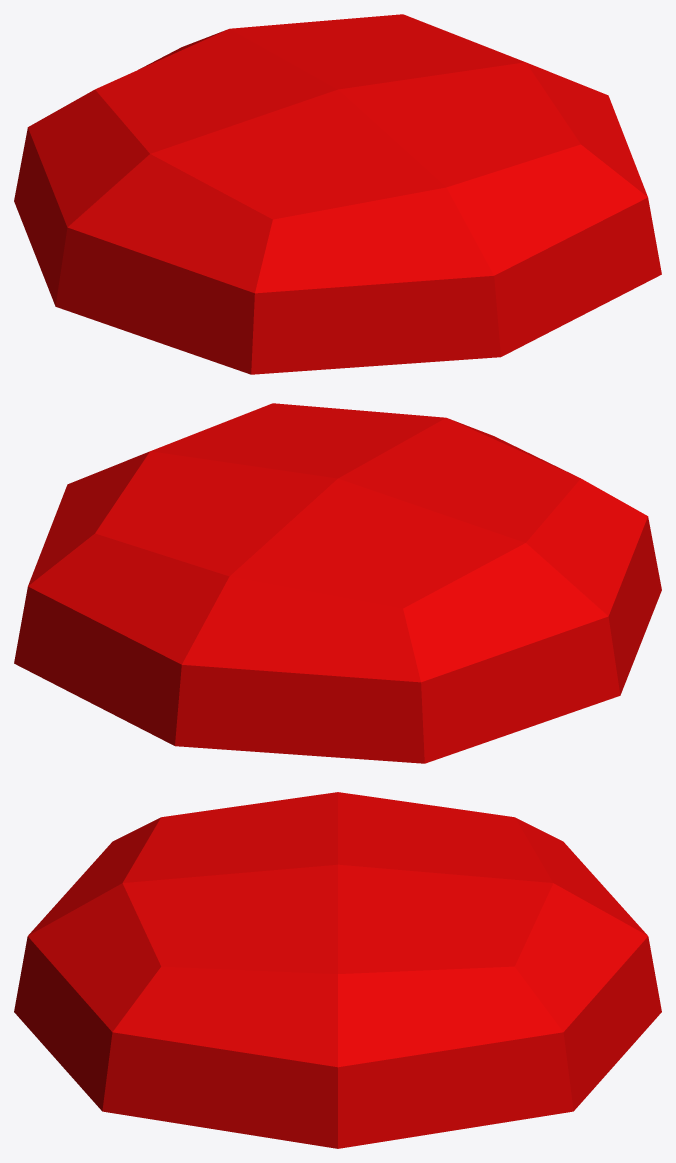
File: u2_diamond.fbx
3 renders of one model, top to bottom at view 1: azimuth 30°, elevation 25°; view 2: azimuth 150°, elevation 25°; view 3: azimuth 270°, elevation 25°, orthographic.
Parts seen in each view (by area): view 1: diamond_low.001; view 2: diamond_low.001; view 3: diamond_low.001.
Part boxes in pixels (bbox=[...]): diamond_low.001: bbox=[14, 14, 661, 374]; diamond_low.001: bbox=[14, 403, 661, 763]; diamond_low.001: bbox=[14, 792, 661, 1148].
Size of the model in its own units: 9.17 by 2.3 by 9.17.
